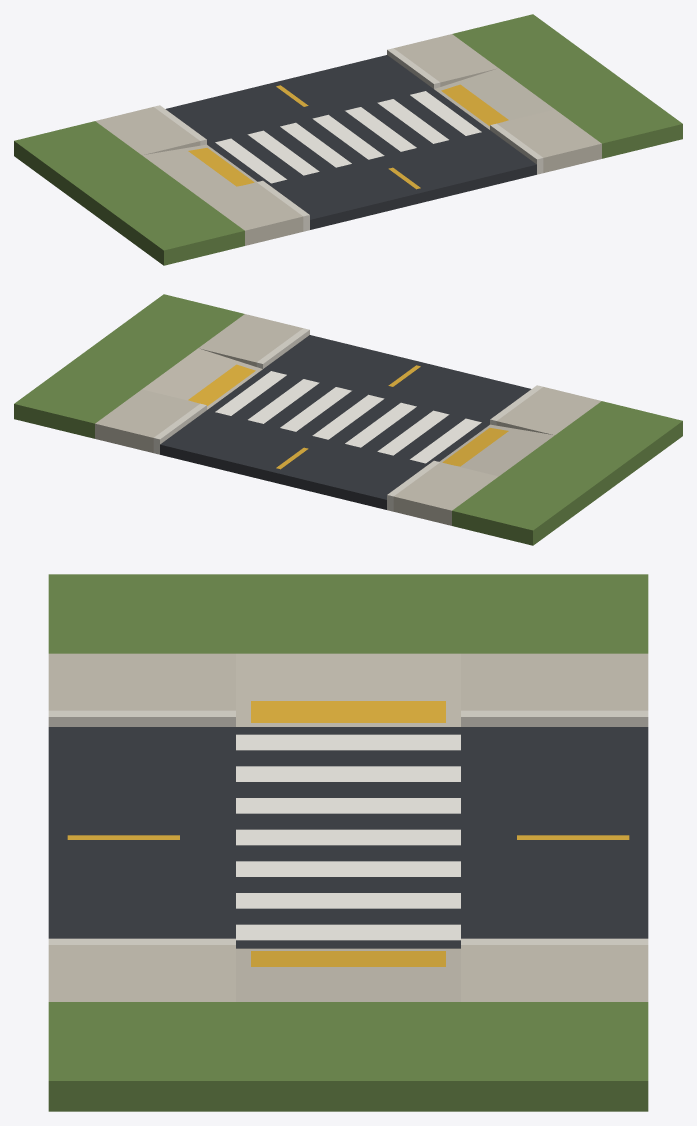
Rendered from Road_2Lane_Sidewalk_Crosswalk_CurbRamps_8m.glb.
3 views of the same model, one above another, from view 1: azimuth 30°, elevation 25°; view 2: azimuth 150°, elevation 25°; view 3: azimuth 270°, elevation 25° (orthographic). The views are drawn at different scales.
Parts seen in each view (by area): view 1: Road_2Lane_Sidewalk_Crosswalk_CurbRamps_8m_Asphalt, Road_2Lane_Sidewalk_Crosswalk_CurbRamps_8m_Grass-edge, Road_2Lane_Sidewalk_Crosswalk_CurbRamps_8m_Sidewalk, Road_2Lane_Sidewalk_Crosswalk_CurbRamps_8m_PaintWhite, Road_2Lane_Sidewalk_Crosswalk_CurbRamps_8m_PaintYellow, Road_2Lane_Sidewalk_Crosswalk_CurbRamps_8m_Curb; view 2: Road_2Lane_Sidewalk_Crosswalk_CurbRamps_8m_Asphalt, Road_2Lane_Sidewalk_Crosswalk_CurbRamps_8m_Grass-edge, Road_2Lane_Sidewalk_Crosswalk_CurbRamps_8m_Sidewalk, Road_2Lane_Sidewalk_Crosswalk_CurbRamps_8m_PaintWhite, Road_2Lane_Sidewalk_Crosswalk_CurbRamps_8m_PaintYellow, Road_2Lane_Sidewalk_Crosswalk_CurbRamps_8m_Curb; view 3: Road_2Lane_Sidewalk_Crosswalk_CurbRamps_8m_Grass-edge, Road_2Lane_Sidewalk_Crosswalk_CurbRamps_8m_Asphalt, Road_2Lane_Sidewalk_Crosswalk_CurbRamps_8m_Sidewalk, Road_2Lane_Sidewalk_Crosswalk_CurbRamps_8m_PaintWhite, Road_2Lane_Sidewalk_Crosswalk_CurbRamps_8m_Curb, Road_2Lane_Sidewalk_Crosswalk_CurbRamps_8m_PaintYellow.
Boxes of the visible parts, bbox=[...] form: Road_2Lane_Sidewalk_Crosswalk_CurbRamps_8m_Asphalt: bbox=[165, 55, 536, 229]; Road_2Lane_Sidewalk_Crosswalk_CurbRamps_8m_Grass-edge: bbox=[14, 14, 682, 265]; Road_2Lane_Sidewalk_Crosswalk_CurbRamps_8m_Sidewalk: bbox=[95, 34, 601, 245]; Road_2Lane_Sidewalk_Crosswalk_CurbRamps_8m_PaintWhite: bbox=[215, 91, 481, 183]; Road_2Lane_Sidewalk_Crosswalk_CurbRamps_8m_PaintYellow: bbox=[188, 84, 508, 189]; Road_2Lane_Sidewalk_Crosswalk_CurbRamps_8m_Curb: bbox=[154, 48, 543, 231]; Road_2Lane_Sidewalk_Crosswalk_CurbRamps_8m_Asphalt: bbox=[160, 335, 531, 509]; Road_2Lane_Sidewalk_Crosswalk_CurbRamps_8m_Grass-edge: bbox=[14, 294, 682, 545]; Road_2Lane_Sidewalk_Crosswalk_CurbRamps_8m_Sidewalk: bbox=[95, 314, 601, 525]; Road_2Lane_Sidewalk_Crosswalk_CurbRamps_8m_PaintWhite: bbox=[215, 371, 481, 463]; Road_2Lane_Sidewalk_Crosswalk_CurbRamps_8m_PaintYellow: bbox=[188, 364, 508, 469]; Road_2Lane_Sidewalk_Crosswalk_CurbRamps_8m_Curb: bbox=[153, 328, 542, 511]; Road_2Lane_Sidewalk_Crosswalk_CurbRamps_8m_Grass-edge: bbox=[48, 574, 648, 1111]; Road_2Lane_Sidewalk_Crosswalk_CurbRamps_8m_Asphalt: bbox=[48, 727, 648, 948]; Road_2Lane_Sidewalk_Crosswalk_CurbRamps_8m_Sidewalk: bbox=[48, 653, 648, 1001]; Road_2Lane_Sidewalk_Crosswalk_CurbRamps_8m_PaintWhite: bbox=[236, 734, 460, 940]; Road_2Lane_Sidewalk_Crosswalk_CurbRamps_8m_Curb: bbox=[48, 710, 648, 944]; Road_2Lane_Sidewalk_Crosswalk_CurbRamps_8m_PaintYellow: bbox=[67, 701, 629, 966].
Size of the model in its own units: 16 by 0.45 by 8.
